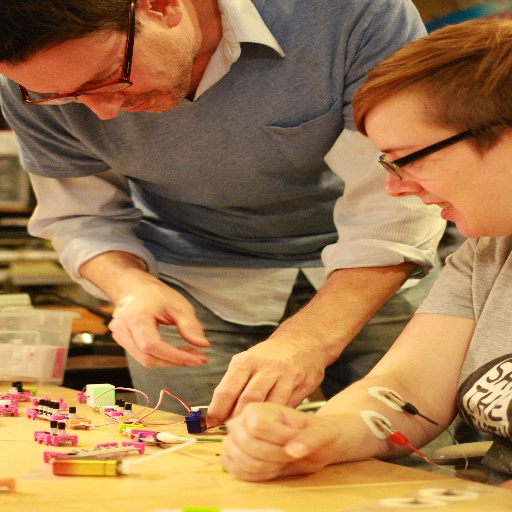hand: (94, 267, 205, 376), (204, 337, 329, 428), (220, 400, 350, 484)
